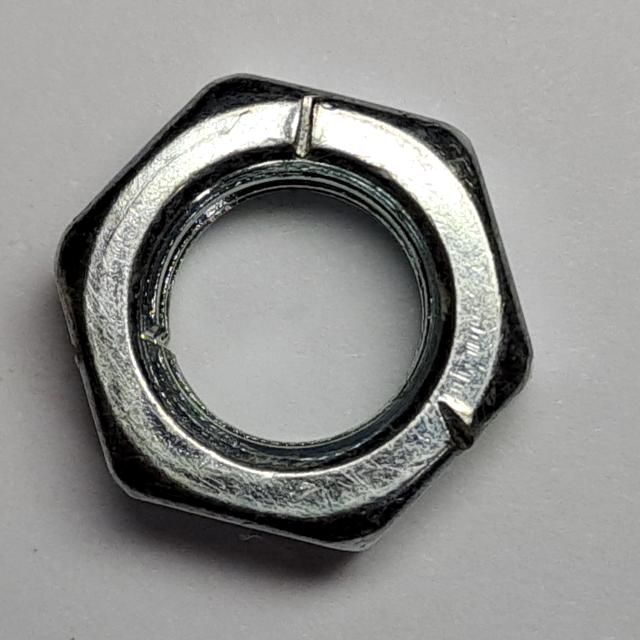Scratches: (32, 57, 546, 570)
